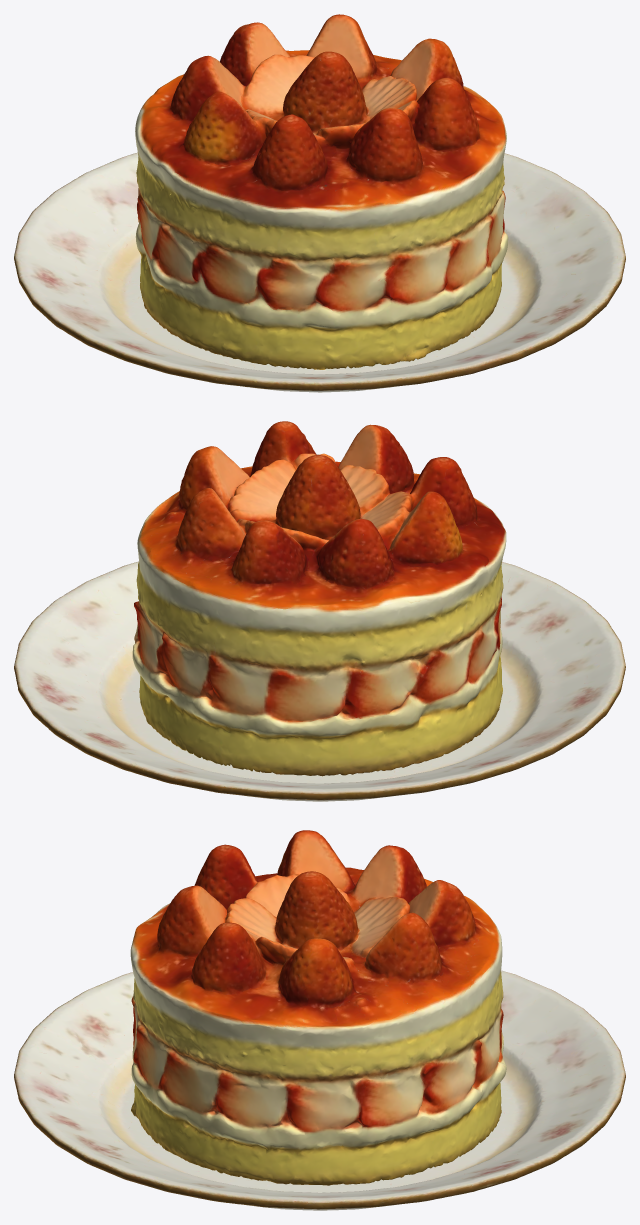
The model's file is sample_2026-11-06T235659.148.glb.
3 renders of one model, top to bottom at view 1: azimuth 30°, elevation 25°; view 2: azimuth 150°, elevation 25°; view 3: azimuth 270°, elevation 25°, orthographic.
Parts seen in each view (by area): view 1: world; view 2: world; view 3: world.
Part boxes in pixels (box(x1,y1,x2,y2)): world: box(14, 14, 625, 392); world: box(14, 421, 625, 801); world: box(14, 830, 625, 1210).
Size of the model in its own units: 1 by 0.4491 by 1.
1 material, 1 textured.
